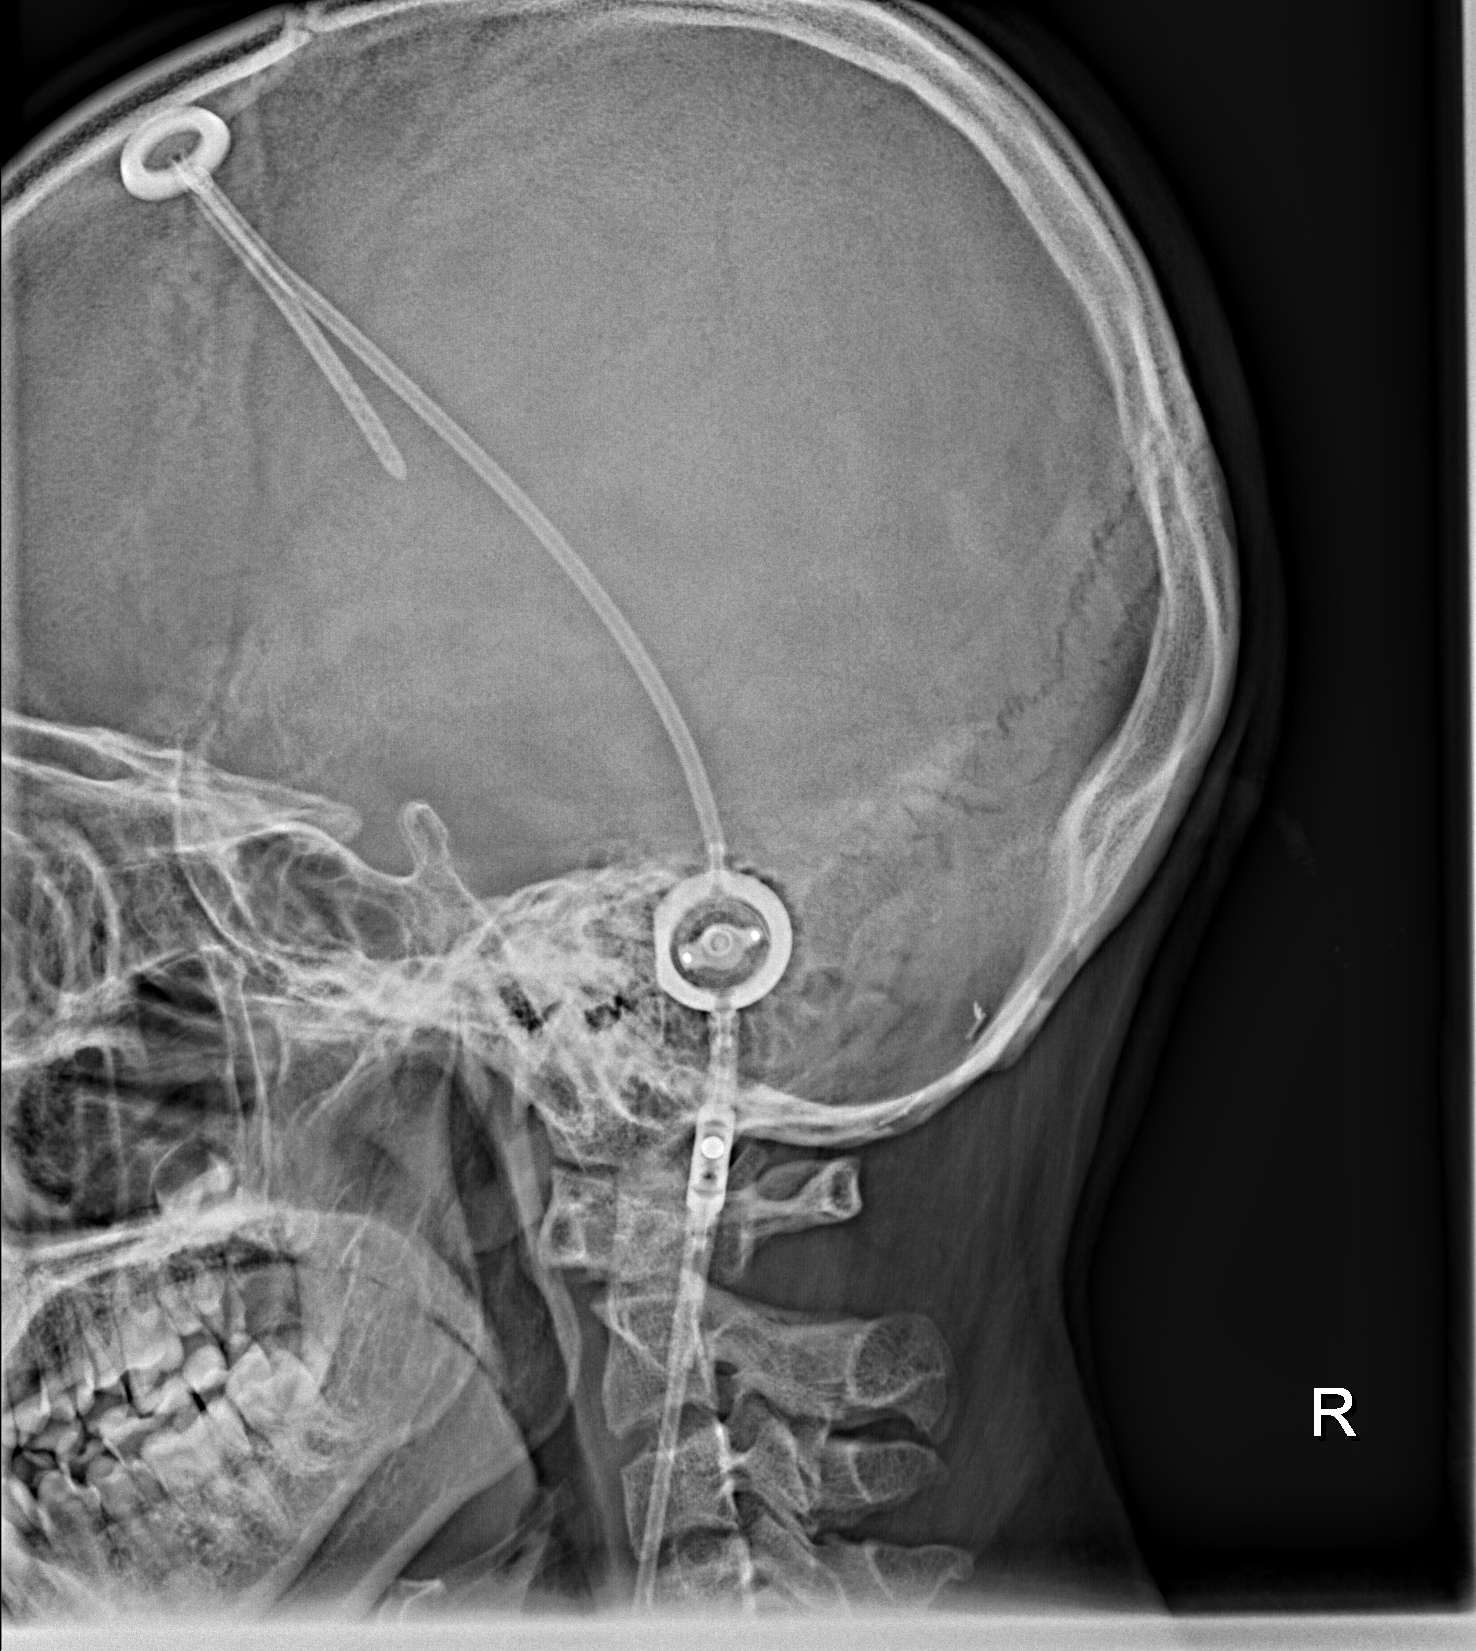proGAV: (645, 858, 801, 1026)
proGAV Gravitationseinheit: (678, 1098, 744, 1241)
